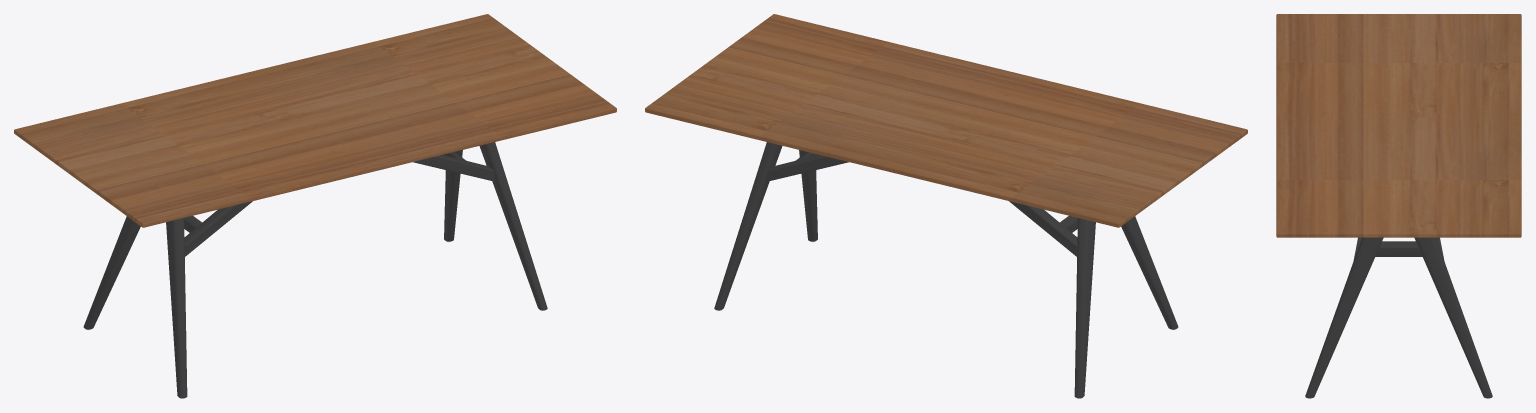
File: modern_table.glb
3 views of the same model, side by side, from view 1: azimuth 30°, elevation 25°; view 2: azimuth 150°, elevation 25°; view 3: azimuth 270°, elevation 25° (orthographic). The views are drawn at different scales.
Parts seen in each view (by area): view 1: Modern_Table; view 2: Modern_Table; view 3: Modern_Table.
Part boxes in pixels (x1,y1,x2,y2): Modern_Table: (14, 14, 616, 398); Modern_Table: (645, 14, 1247, 398); Modern_Table: (1276, 14, 1521, 398).
Size of the model in its own units: 1.93 by 0.7798 by 0.9093.
3 materials, 1 textured.
